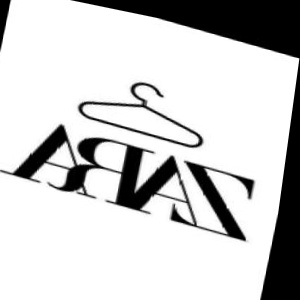zara: (250, 100, 282, 220)
